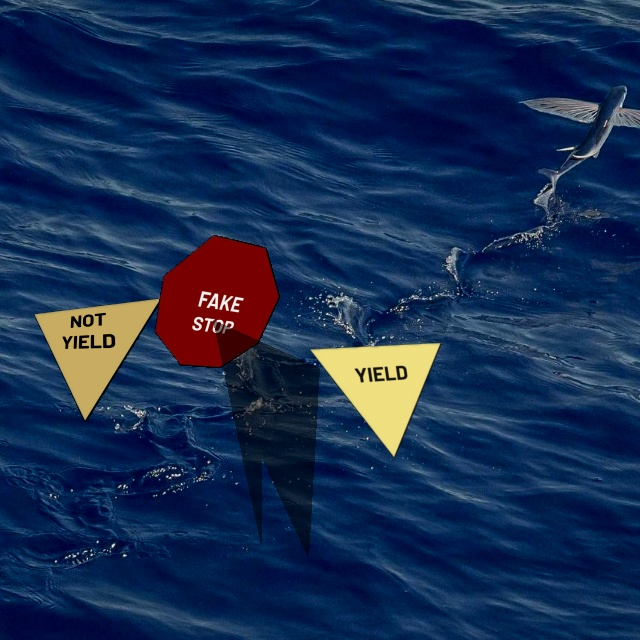FAKE_STOP: (154, 234, 280, 368)
NOT_YIELD: (33, 297, 163, 423)
YIELD: (308, 342, 442, 459)
